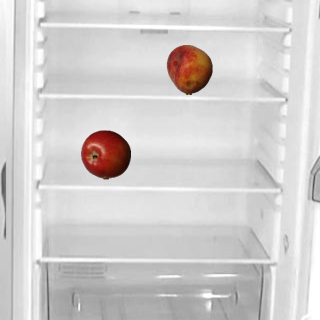Apple Braeburn: (80, 129, 130, 179)
Peach: (164, 44, 214, 94)
